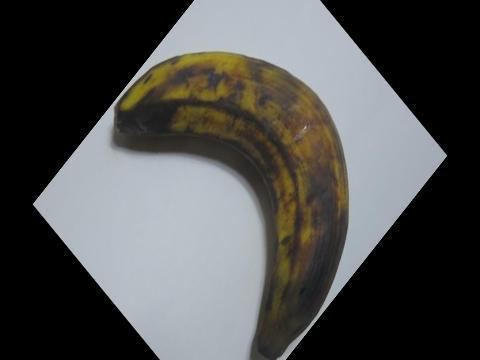overripe: (102, 34, 358, 350)
